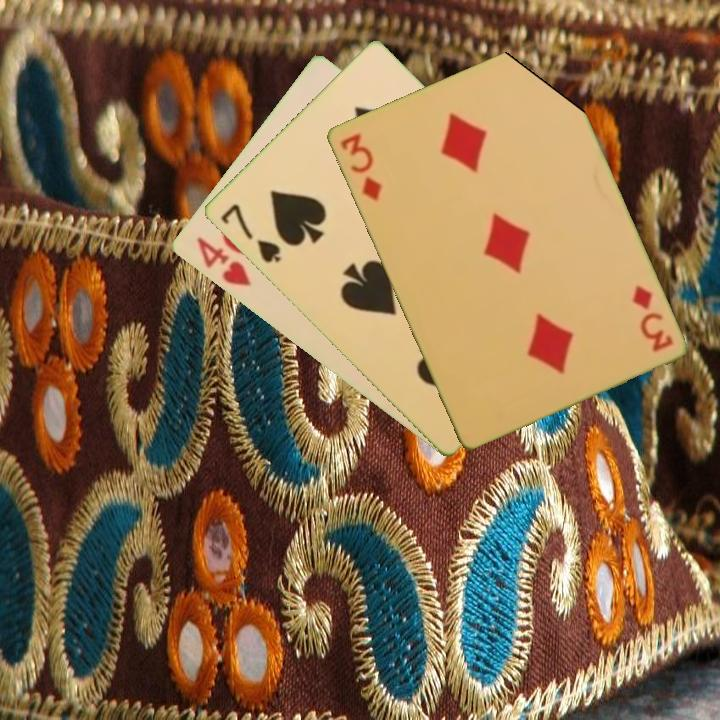3d: (336, 130, 385, 204), (628, 281, 676, 355)
4h: (192, 233, 253, 290)
7s: (216, 200, 284, 266)
